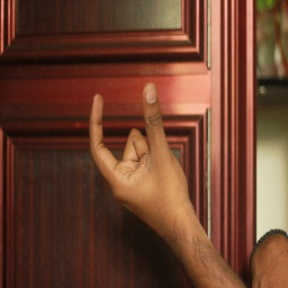U: (82, 76, 183, 215)
